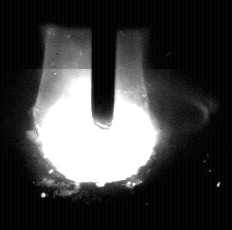arame: (92, 0, 116, 131)
poca: (33, 0, 161, 230)
